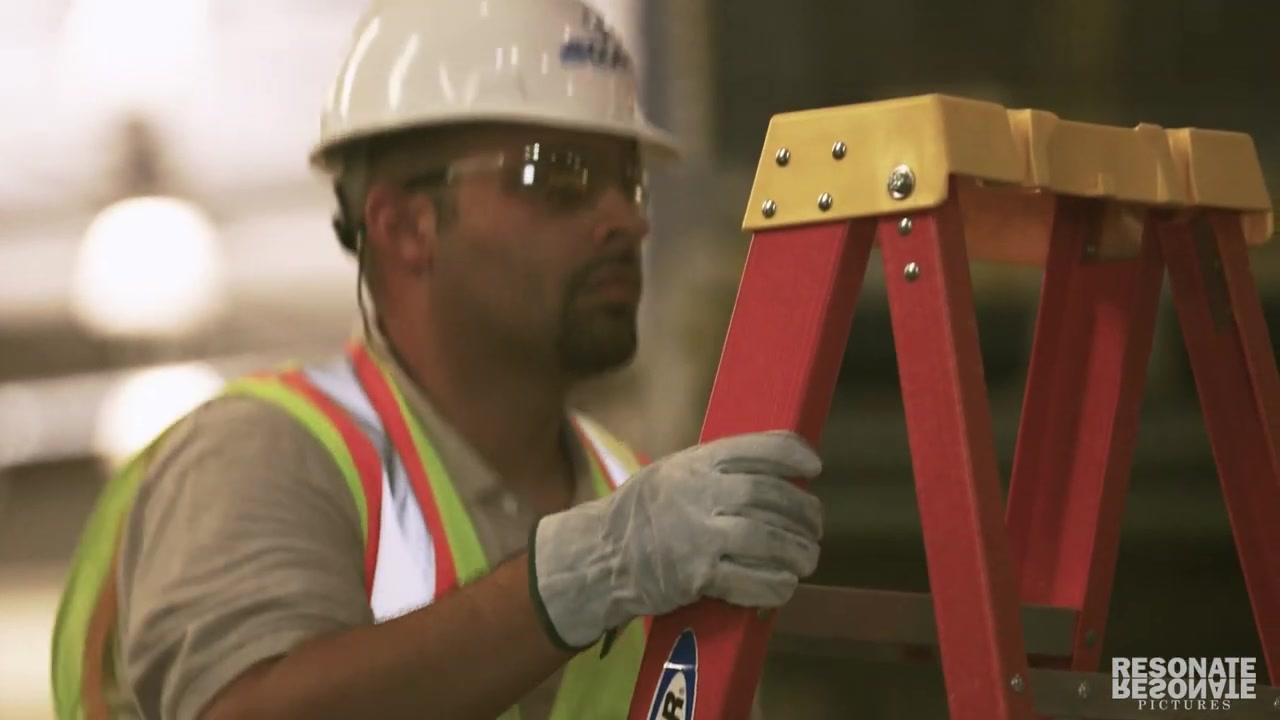vest: (51, 333, 671, 718)
